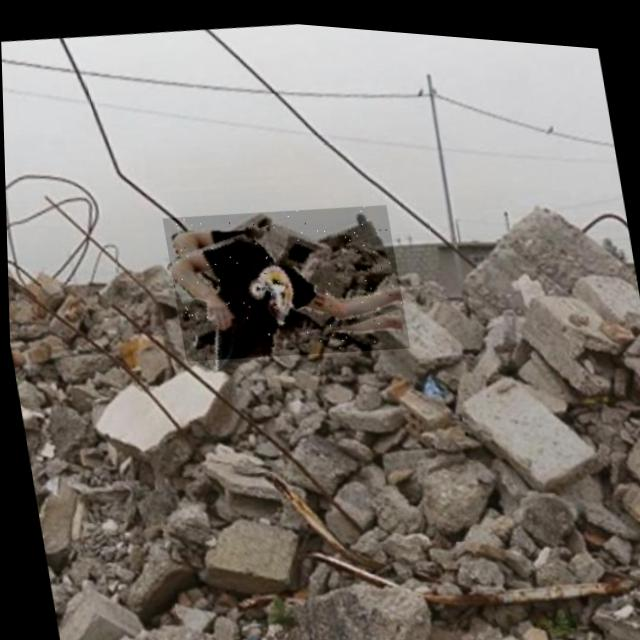Person in Rubble: (161, 184, 410, 373)
